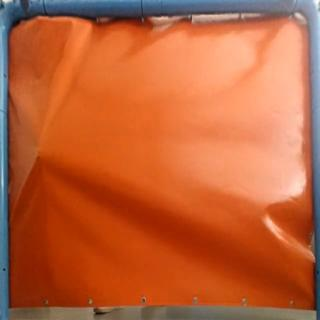Hit-hRxx: (35, 152, 43, 160)
